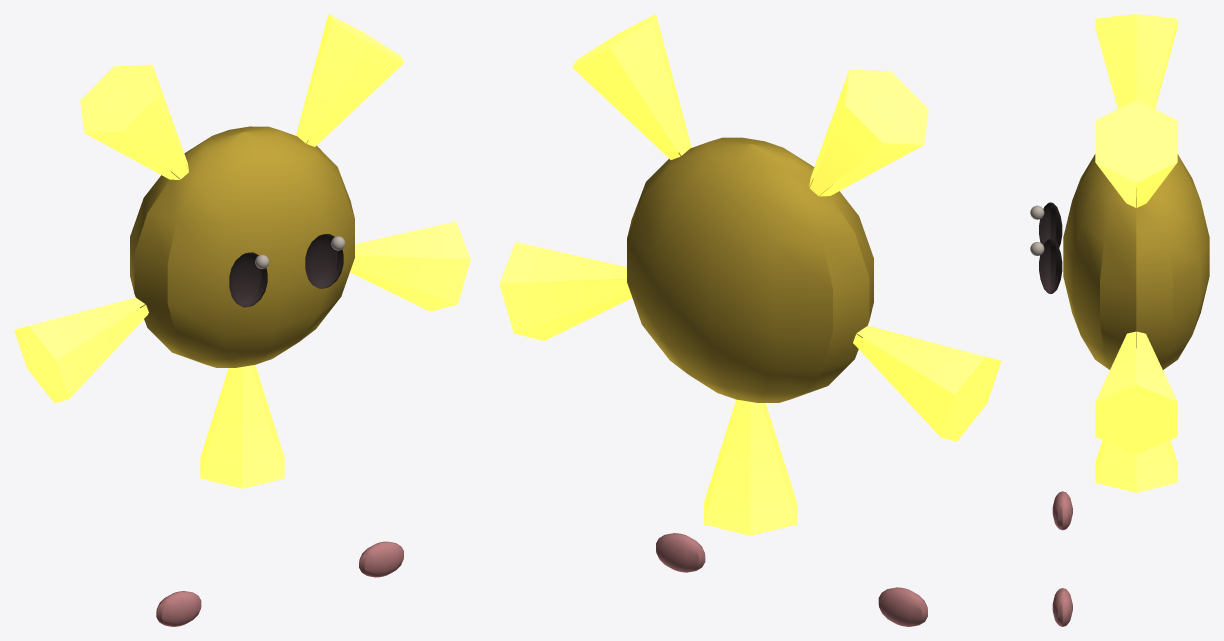
The picture shows the model from 3 angles, left to right: view 1: azimuth 30°, elevation 25°; view 2: azimuth 150°, elevation 25°; view 3: azimuth 270°, elevation 25°; orthographic projection. The views are drawn at different scales.
Visible parts, largest first — view 1: pet_p089f24ff; view 2: pet_p089f24ff; view 3: pet_p089f24ff.
Part boxes in pixels (x1,y1,x2,y2): pet_p089f24ff: (14, 14, 470, 626); pet_p089f24ff: (499, 14, 1001, 626); pet_p089f24ff: (1030, 14, 1209, 626).
Bounding box in the file's own units: 0.5065 × 0.6005 × 0.1882.
